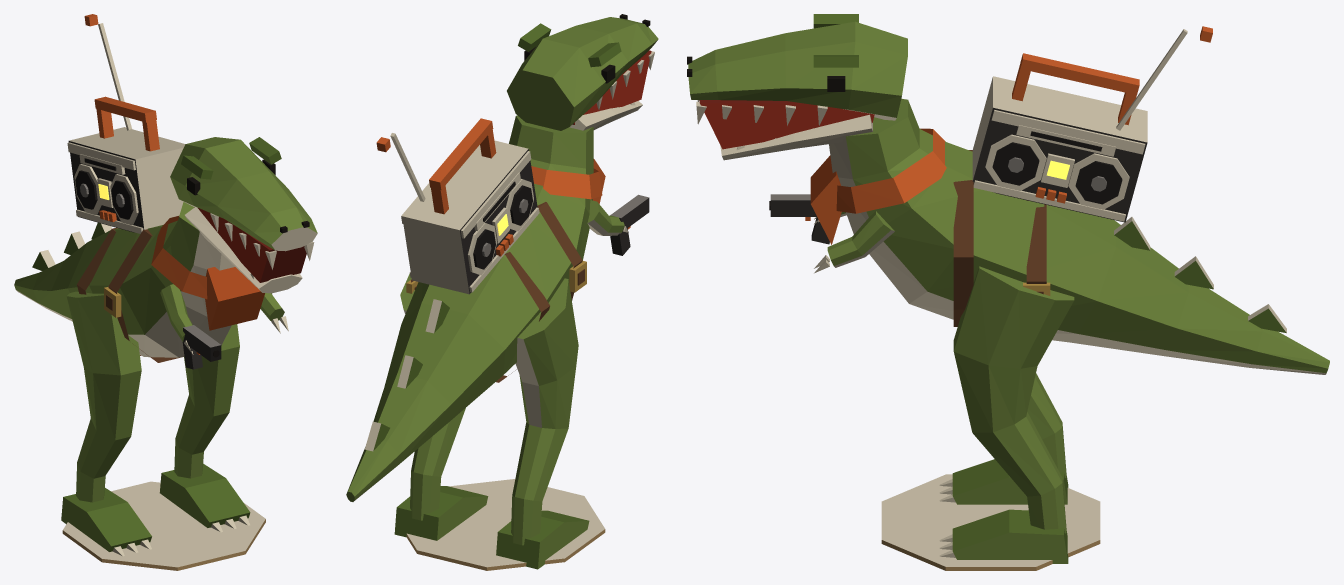
The model's file is dino.glb.
The picture shows the model from 3 angles, left to right: view 1: azimuth 30°, elevation 25°; view 2: azimuth 150°, elevation 25°; view 3: azimuth 270°, elevation 25°; orthographic projection. The views are drawn at different scales.
Parts seen in each view (by area): view 1: traveller__body, traveller__head, traveller__leg_r, traveller__leg_l, traveller__base_tab, traveller__arm_r, traveller__arm_l; view 2: traveller__body, traveller__leg_r, traveller__head, traveller__base_tab, traveller__leg_l, traveller__arm_r; view 3: traveller__body, traveller__head, traveller__leg_l, traveller__base_tab, traveller__leg_r, traveller__arm_l, traveller__arm_r.
Boxes of the visible parts, left/top/right/bottom form: traveller__body: left=14, top=14, right=264, bottom=362; traveller__head: left=170, top=137, right=317, bottom=293; traveller__leg_r: left=61, top=291, right=151, bottom=556; traveller__leg_l: left=159, top=324, right=250, bottom=532; traveller__base_tab: left=62, top=481, right=265, bottom=570; traveller__arm_r: left=160, top=284, right=221, bottom=369; traveller__arm_l: left=260, top=293, right=288, bottom=333; traveller__body: left=346, top=115, right=605, bottom=501; traveller__leg_r: left=496, top=278, right=589, bottom=569; traveller__head: left=507, top=14, right=658, bottom=130; traveller__base_tab: left=406, top=479, right=605, bottom=570; traveller__leg_l: left=394, top=273, right=488, bottom=540; traveller__arm_r: left=587, top=194, right=649, bottom=255; traveller__body: left=810, top=26, right=1329, bottom=374; traveller__head: left=687, top=14, right=907, bottom=160; traveller__leg_l: left=939, top=266, right=1074, bottom=563; traveller__base_tab: left=881, top=474, right=1100, bottom=570; traveller__leg_r: left=939, top=373, right=1068, bottom=504; traveller__arm_l: left=814, top=211, right=894, bottom=273; traveller__arm_r: left=769, top=194, right=846, bottom=244.
Size of the model in its own units: 0.2402 by 0.6156 by 0.7064.
